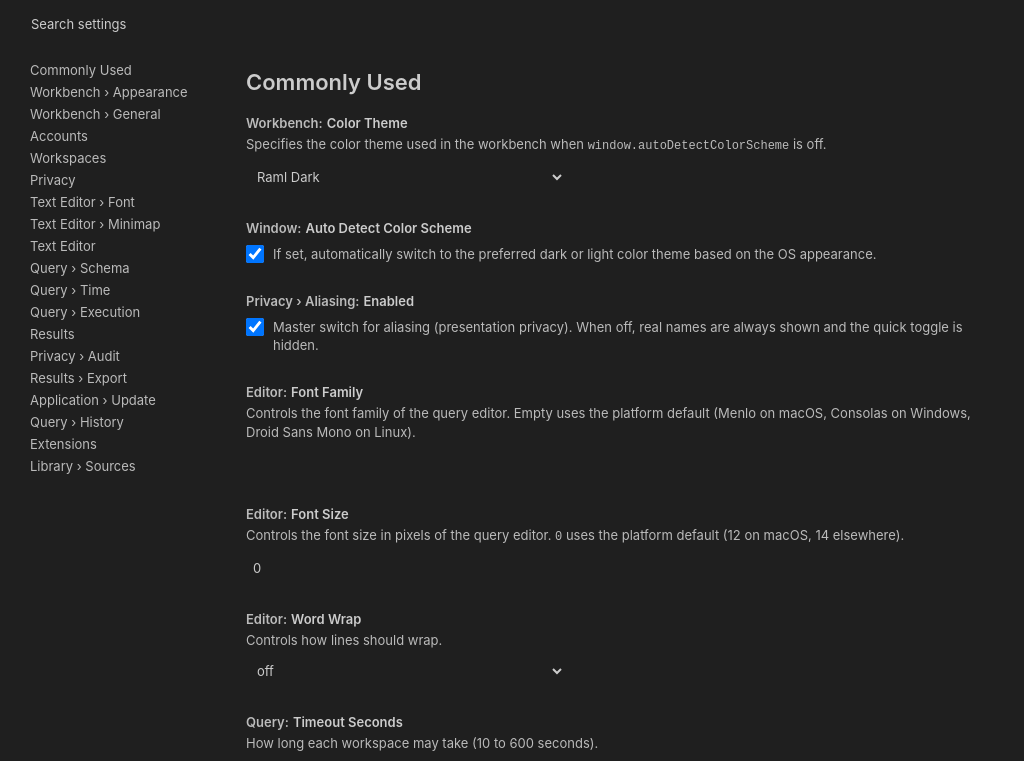
Test case: SettingsEditor › filters by search text and shows the count
Type "status bar" into the search field labelled "Search settings" at (497, 24), box [24,11,970,37]
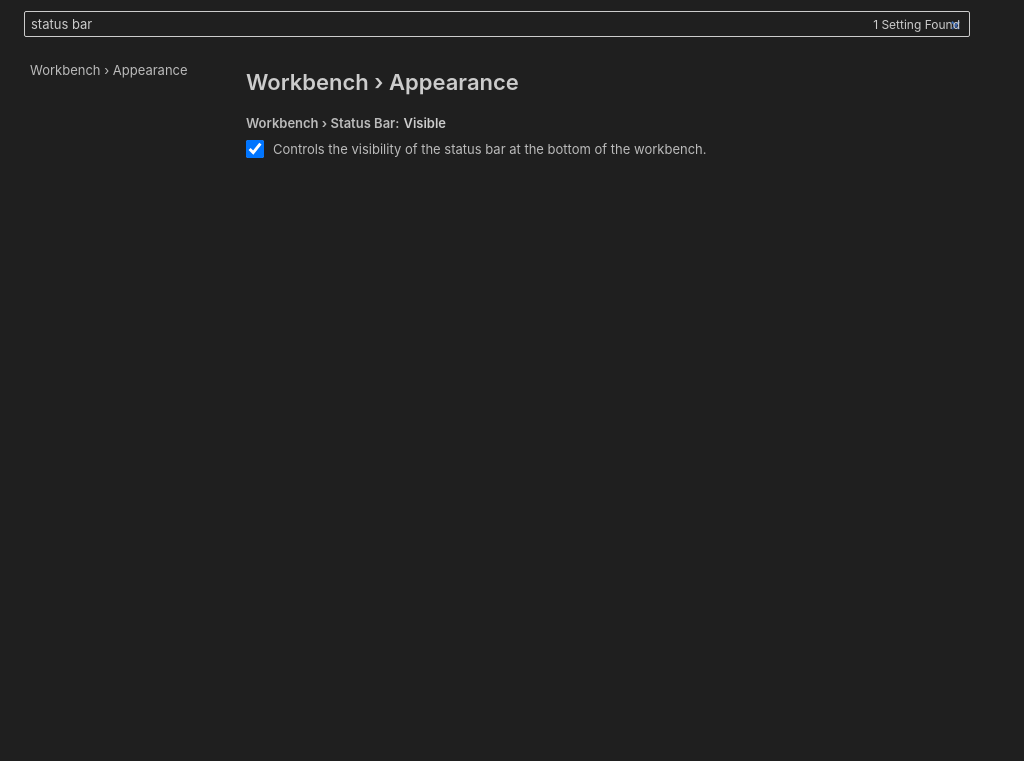
Expected: the text "1 Setting Found" is shown, [873,16,960,32]
Expected: the element "Workbench › Status Bar: Visible" is shown, [246,115,706,158]
Replace the text in the search field with "zzzz" at (497, 24), box [24,11,970,37]
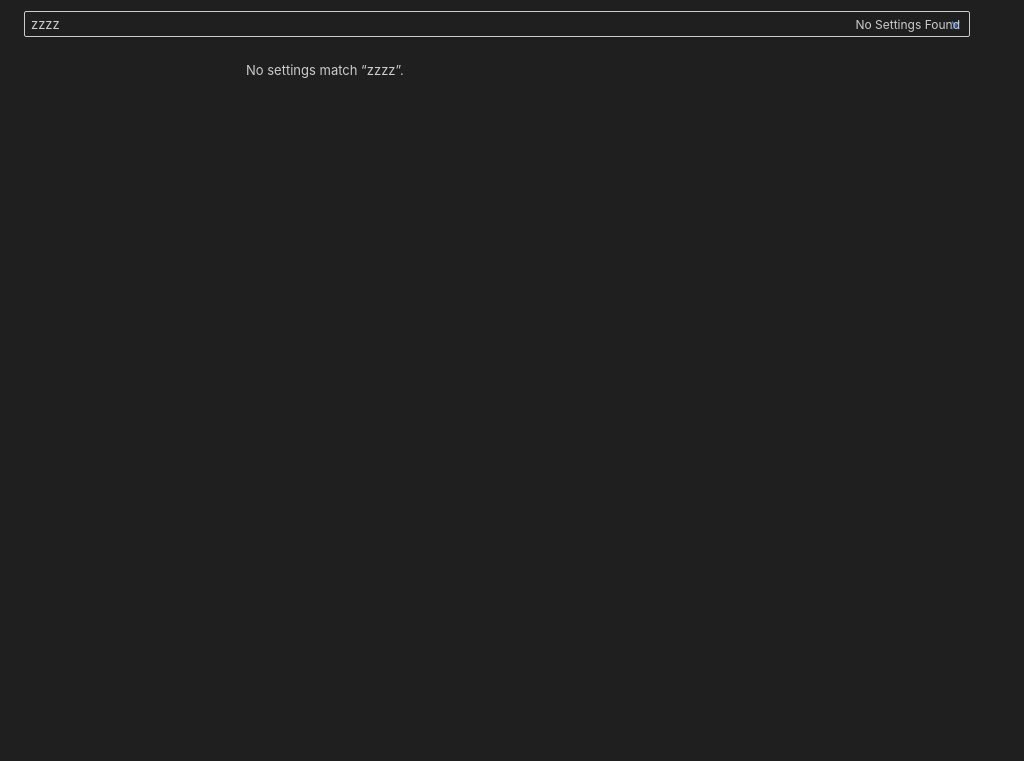
Expected: the text "No Settings Found" is shown, [855,16,960,32]
